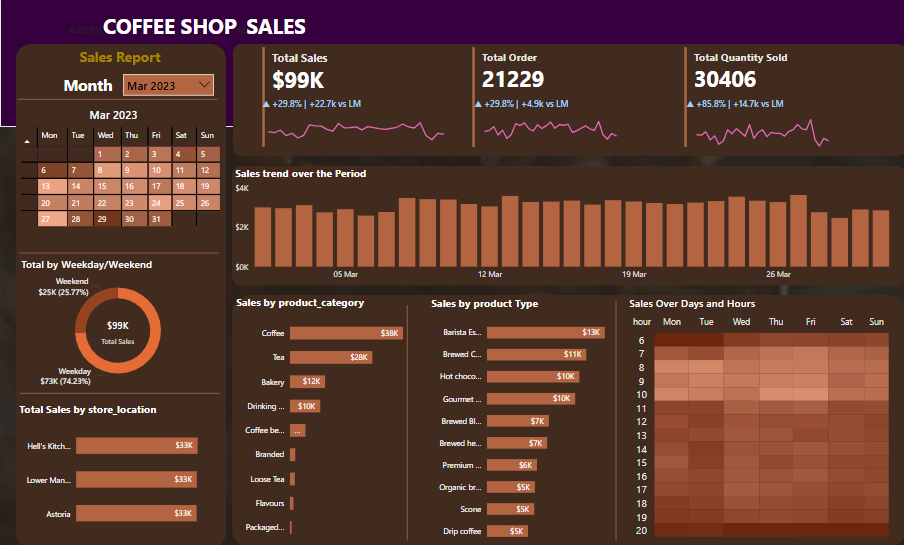

The page's visual inventory and layout, read from the dashboard file:
{"tool":"powerbi","page":{"name":"Page 1","canvas":[1400,850],"ordinal":0},"visuals":[{"type":"shape","box":[0,0,1400.2,199.4],"z":0},{"type":"cardVisual","fields":{"Data":["Transactions.Total Sales"]},"box":[400.7,71.1,300.1,164.8],"z":0,"group":"g3"},{"type":"cardVisual","fields":{"Data":["Transactions.Total Order"]},"box":[725.1,71.1,300.1,164.8],"z":0,"group":"g1"},{"type":"cardVisual","fields":{"Data":["Transactions.Total Quantity Sold"]},"box":[1053,71.1,300.1,164.8],"z":0,"group":"g2"},{"type":"donutChart","title":"Total by Weekday/Weekend","fields":{"Category":["Date Table.weekday/weekend"],"Y":["Transactions.Total Sales"]},"box":[27.6,400,308.8,206.4],"z":0,"group":"g6"},{"type":"lineChart","fields":{"Category":["Date Table.Date.Variation.Date Hierarchy.Year","Date Table.Date.Variation.Date Hierarchy.Quarter","Date Table.Date.Variation.Date Hierarchy.Month","Date Table.Date.Variation.Date Hierarchy.Day"],"Y":["Transactions.Total Order"]},"box":[727.9,154.2,300.1,81.5],"z":1000,"group":"g1"},{"type":"lineChart","fields":{"Category":["Date Table.Date.Variation.Date Hierarchy.Year","Date Table.Date.Variation.Date Hierarchy.Quarter","Date Table.Date.Variation.Date Hierarchy.Month","Date Table.Date.Variation.Date Hierarchy.Day"],"Y":["Transactions.Total Quantity Sold"]},"box":[1055.8,154.2,300.1,81.5],"z":1000,"group":"g2"},{"type":"lineChart","fields":{"Y":["Sum(Transactions.Sales)"],"Category":["Date Table.Date.Variation.Date Hierarchy.Year","Date Table.Date.Variation.Date Hierarchy.Quarter","Date Table.Date.Variation.Date Hierarchy.Month","Date Table.Date.Variation.Date Hierarchy.Day"]},"box":[400.7,154.4,300.1,81.5],"z":1000,"group":"g3"},{"type":"cardVisual","fields":{"Data":["Min(Date Table.Month Year)"]},"box":[114.5,268.9,128.4,48.6],"z":1000},{"type":"card","fields":{"Values":["Transactions.Total Sales"]},"box":[86.6,490.2,190.8,52],"z":1000,"group":"g6"},{"type":"shape","box":[24.7,71.1,324.5,778.9],"z":2000},{"type":"shape","box":[360.1,71.1,1040.1,173.1],"z":3000},{"type":"textbox","box":[69,15.5,441.4,55.2],"z":4000},{"type":"slicer","fields":{"Values":["Date Table.Month Year"]},"box":[186.2,112.1,150,41.4],"z":5000},{"type":"group","id":"g1","title":"Group 2","box":[725.1,71.1,303.6,164.8],"z":5005,"group":"g4"},{"type":"group","id":"g2","title":"Group 2","box":[1053,71.1,303.6,164.8],"z":5005,"group":"g5"},{"type":"group","id":"g3","title":"Group 1","box":[400.7,71.1,300.1,164.8],"z":6000},{"type":"group","id":"g4","title":"Group 1","box":[725.1,71.1,303.6,164.8],"z":7000},{"type":"group","id":"g5","title":"Group 1","box":[1053,71.1,303.6,164.8],"z":8000},{"type":"pivotTable","fields":{"Rows":["Date Table.Week No"],"Columns":["Date Table.Day Name"],"Values":["Min(Date Table.Day No)"]},"box":[27.6,194.8,317.2,191.4],"z":9000},{"type":"card","fields":{"Values":["Min(Date Table.Month Year)"]},"box":[113.8,156.9,122.4,48.3],"z":10000},{"type":"shape","box":[659.2,598.5,308.8,12.1],"z":11000},{"type":"shape","box":[27.6,143.1,308.6,25.9],"z":12000},{"type":"group","id":"g6","title":"Group 3","box":[27.6,400,308.6,205.2],"z":13000},{"type":"shape","box":[31,598.3,308.6,25.9],"z":14000},{"type":"barChart","fields":{"Y":["Transactions.Total Sales"],"Category":["Transactions.store_location"]},"box":[24.1,624.1,320.7,213.8],"z":15000},{"type":"shape","box":[359.1,260.2,1040.8,185],"z":16000},{"type":"columnChart","title":"Sales trend over the Period","fields":{"Category":["Transactions.transaction_date"],"Y":["Transactions.Total Sales"]},"box":[359.1,260.2,1028.7,185.6],"z":17000},{"type":"shape","box":[359.1,459.7,1040.8,390.3],"z":18000},{"type":"barChart","title":"Sales by product_category","fields":{"Y":["Transactions.Total Sales"],"Category":["Transactions.product_category"]},"box":[360.8,459.7,298.4,390.3],"z":19000},{"type":"shape","box":[29.3,386.2,308.6,15.5],"z":20000},{"type":"shape","box":[617.2,474.1,25.9,363.8],"z":21000},{"type":"barChart","title":"Sales by product Type","fields":{"Y":["Transactions.Total Sales"],"Category":["Transactions.product_type"]},"box":[663.8,460.3,303.4,389.7],"z":22000},{"type":"shape","box":[936.2,469,31,369],"z":23000},{"type":"pivotTable","title":"Sales Over Days and Hours","fields":{"Rows":["Transactions.hour"],"Columns":["Date Table.Day Name"],"Values":["Transactions.Total Sales"]},"box":[967.2,460.3,432.8,389.7],"z":24000},{"type":"textbox","box":[86.2,112.1,98.3,44.8],"z":24001},{"type":"textbox","box":[31,70.7,308.6,41.4],"z":24002}]}

Visuals, with their boxes in screenshot pixels (x1, y1, x2, y2), scaled from the page's 1400x850 canvas onto the 904x545 screenshot:
shape: pyautogui.locateOnScreen(0, 0, 903, 128)
cardVisual - Transactions.Total Sales: pyautogui.locateOnScreen(259, 46, 453, 151)
cardVisual - Transactions.Total Order: pyautogui.locateOnScreen(468, 46, 662, 151)
cardVisual - Transactions.Total Quantity Sold: pyautogui.locateOnScreen(680, 46, 874, 151)
"Total by Weekday/Weekend" donutChart: pyautogui.locateOnScreen(18, 256, 217, 389)
lineChart - Date Table.Date.Variation.Date Hierarchy.Year x Date Table.Date.Variation.Date Hierarchy.Quarter: pyautogui.locateOnScreen(470, 99, 664, 151)
lineChart - Date Table.Date.Variation.Date Hierarchy.Year x Date Table.Date.Variation.Date Hierarchy.Quarter: pyautogui.locateOnScreen(682, 99, 876, 151)
lineChart - Sum(Transactions.Sales) x Date Table.Date.Variation.Date Hierarchy.Year: pyautogui.locateOnScreen(259, 99, 453, 151)
cardVisual - Min(Date Table.Month Year): pyautogui.locateOnScreen(74, 172, 157, 204)
card - Transactions.Total Sales: pyautogui.locateOnScreen(56, 314, 179, 348)
shape: pyautogui.locateOnScreen(16, 46, 225, 544)
shape: pyautogui.locateOnScreen(233, 46, 903, 157)
textbox: pyautogui.locateOnScreen(45, 10, 330, 45)
slicer - Date Table.Month Year: pyautogui.locateOnScreen(120, 72, 217, 98)
"Group 2" group: pyautogui.locateOnScreen(468, 46, 664, 151)
"Group 2" group: pyautogui.locateOnScreen(680, 46, 876, 151)
"Group 1" group: pyautogui.locateOnScreen(259, 46, 453, 151)
"Group 1" group: pyautogui.locateOnScreen(468, 46, 664, 151)
"Group 1" group: pyautogui.locateOnScreen(680, 46, 876, 151)
pivotTable - Date Table.Week No x Date Table.Day Name: pyautogui.locateOnScreen(18, 125, 223, 248)
card - Min(Date Table.Month Year): pyautogui.locateOnScreen(73, 101, 153, 132)
shape: pyautogui.locateOnScreen(426, 384, 625, 392)
shape: pyautogui.locateOnScreen(18, 92, 217, 108)
"Group 3" group: pyautogui.locateOnScreen(18, 256, 217, 388)
shape: pyautogui.locateOnScreen(20, 384, 219, 400)
barChart - Transactions.Total Sales x Transactions.store_location: pyautogui.locateOnScreen(16, 400, 223, 537)
shape: pyautogui.locateOnScreen(232, 167, 903, 285)
"Sales trend over the Period" columnChart: pyautogui.locateOnScreen(232, 167, 896, 286)
shape: pyautogui.locateOnScreen(232, 295, 903, 544)
"Sales by product_category" barChart: pyautogui.locateOnScreen(233, 295, 426, 544)
shape: pyautogui.locateOnScreen(19, 248, 218, 258)
shape: pyautogui.locateOnScreen(399, 304, 415, 537)
"Sales by product Type" barChart: pyautogui.locateOnScreen(429, 295, 625, 544)
shape: pyautogui.locateOnScreen(605, 301, 625, 537)
"Sales Over Days and Hours" pivotTable: pyautogui.locateOnScreen(625, 295, 903, 544)
textbox: pyautogui.locateOnScreen(56, 72, 119, 101)
textbox: pyautogui.locateOnScreen(20, 45, 219, 72)
